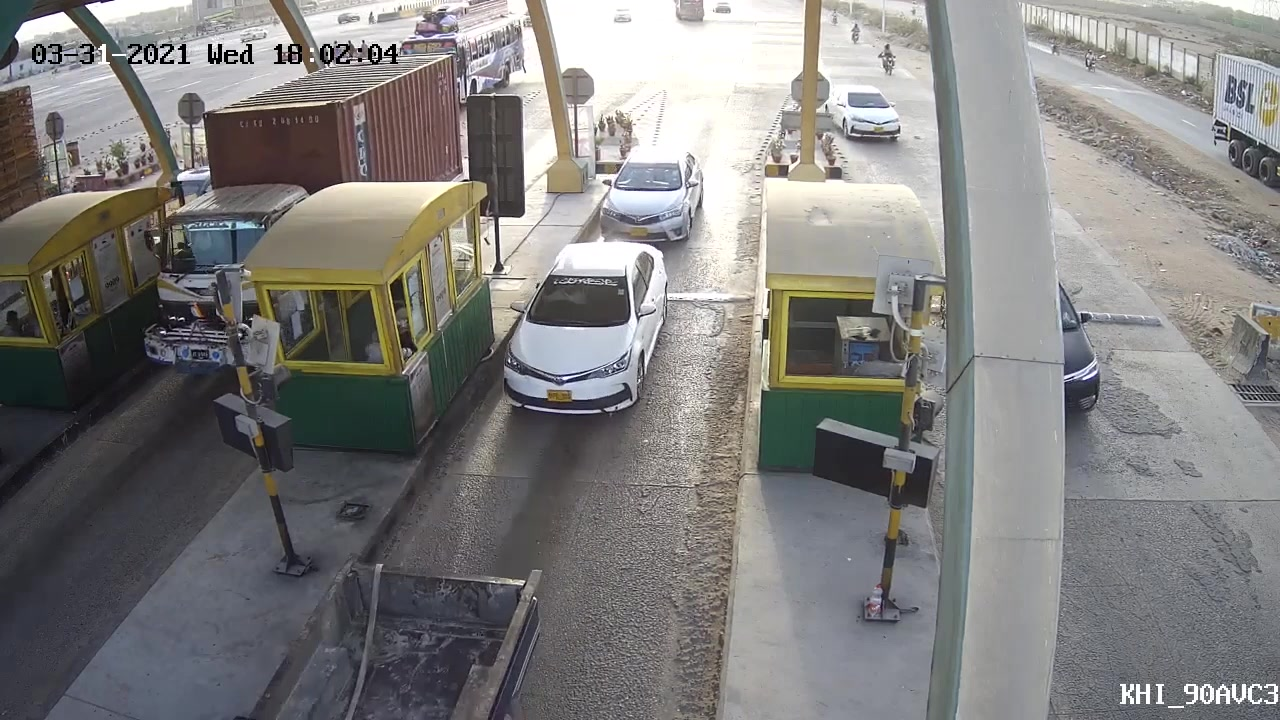F1: (492, 238, 682, 426)
